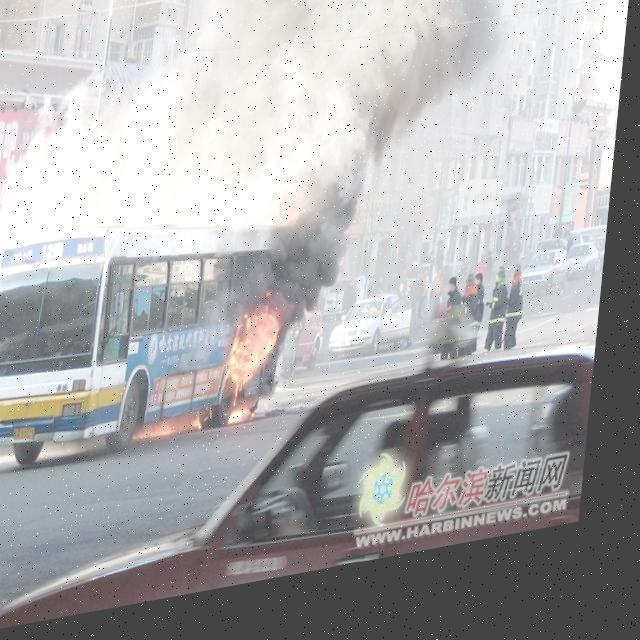Fire: (224, 310, 303, 440)
